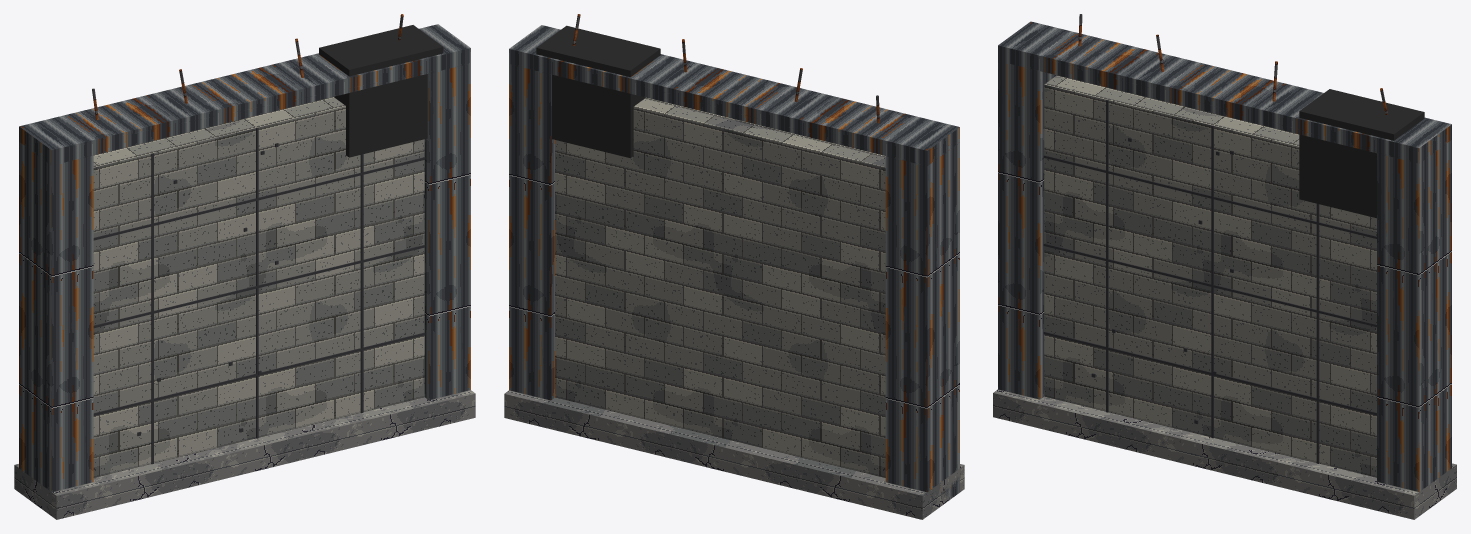
Rendered from DST_ConcreteWall_4m_Broken.glb.
3 renders of one model, left to right at view 1: azimuth 30°, elevation 25°; view 2: azimuth 150°, elevation 25°; view 3: azimuth 330°, elevation 25°, orthographic.
Parts seen in each view (by area): view 1: Panel, Pilaster, Coping, Pilaster.001, Footing, Hole, Seam.001, Seam.002, Seam, SeamV.002, SeamV, SeamV.001; view 2: Panel, Pilaster, Coping, Pilaster.001, Footing, Hole; view 3: Panel, Pilaster.001, Coping, Pilaster, Footing, Hole, Seam.001, Seam.002, Seam, SeamV.002, SeamV.001, SeamV.
Part boxes in pixels (x1=…): Panel: x1=93, y1=97, x2=424, y2=477; Pilaster: x1=19, y1=142, x2=93, y2=491; Coping: x1=19, y1=24, x2=470, y2=165; Pilaster.001: x1=424, y1=63, x2=470, y2=400; Footing: x1=14, y1=390, x2=475, y2=519; Hole: x1=319, y1=25, x2=443, y2=157; Seam.001: x1=93, y1=245, x2=425, y2=328; Seam.002: x1=93, y1=157, x2=425, y2=240; Seam: x1=93, y1=332, x2=425, y2=415; SeamV.002: x1=360, y1=154, x2=363, y2=412; SeamV: x1=151, y1=153, x2=153, y2=464; SeamV.001: x1=256, y1=127, x2=258, y2=438; Panel: x1=555, y1=97, x2=885, y2=477; Pilaster: x1=885, y1=142, x2=959, y2=499; Coping: x1=509, y1=25, x2=959, y2=165; Pilaster.001: x1=509, y1=64, x2=554, y2=400; Footing: x1=504, y1=390, x2=964, y2=519; Hole: x1=536, y1=25, x2=660, y2=158; Panel: x1=1044, y1=75, x2=1376, y2=477; Pilaster.001: x1=1377, y1=140, x2=1451, y2=491; Coping: x1=998, y1=21, x2=1451, y2=163; Pilaster: x1=998, y1=61, x2=1056, y2=399; Footing: x1=993, y1=389, x2=1456, y2=519; Hole: x1=1299, y1=89, x2=1424, y2=218; Seam.001: x1=1043, y1=243, x2=1376, y2=327; Seam.002: x1=1043, y1=155, x2=1376, y2=238; Seam: x1=1043, y1=331, x2=1376, y2=415; SeamV.002: x1=1316, y1=203, x2=1319, y2=463; SeamV.001: x1=1211, y1=125, x2=1213, y2=438; SeamV: x1=1106, y1=99, x2=1108, y2=412.
Size of the model in its own units: 4 by 3.67 by 0.7.
Materials: 6 (4 with a texture image).
